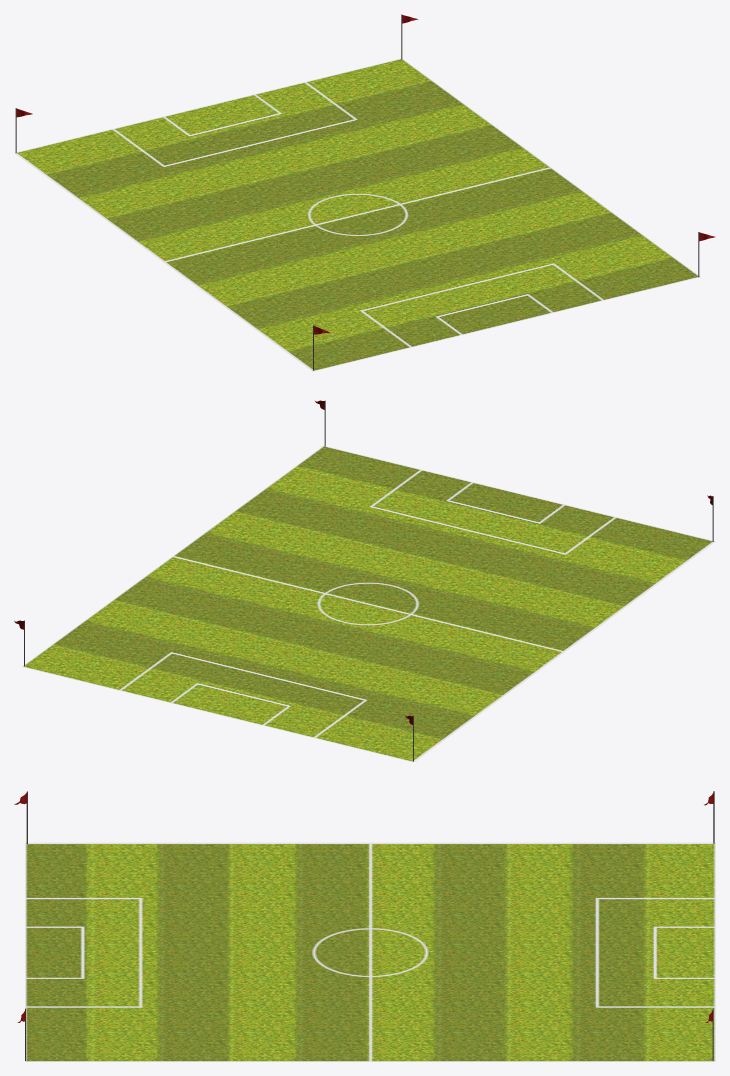
File: Field.FBX
3 renders of one model, top to bottom at view 1: azimuth 30°, elevation 25°; view 2: azimuth 150°, elevation 25°; view 3: azimuth 270°, elevation 25°, orthographic. The views are drawn at different scales.
Visible parts, largest first — view 1: Veld; view 2: Veld; view 3: Veld.
Part boxes in pixels (<box>): Veld: <box>14,58,700,371</box>; Veld: <box>22,446,715,762</box>; Veld: <box>25,842,715,1061</box>.
Size of the model in its own units: 928 by 100 by 1219.
Materials: 3 (1 with a texture image).
